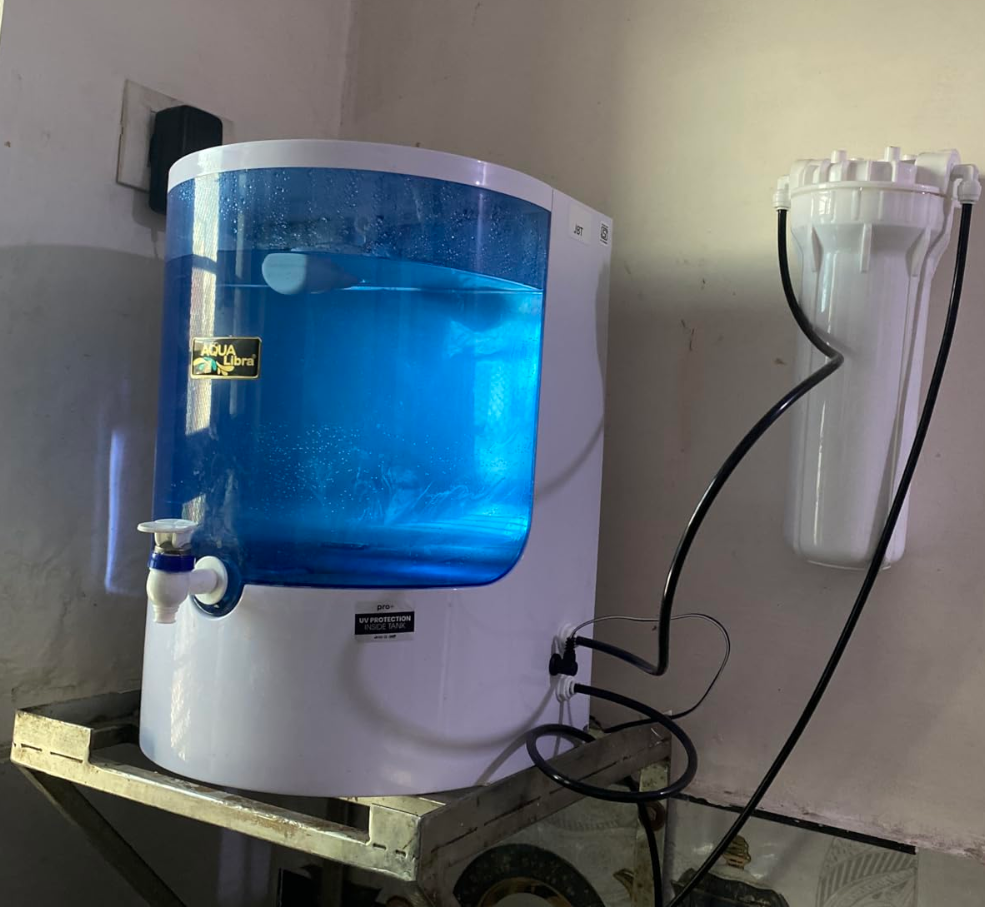water purifier: (131, 136, 624, 817)
